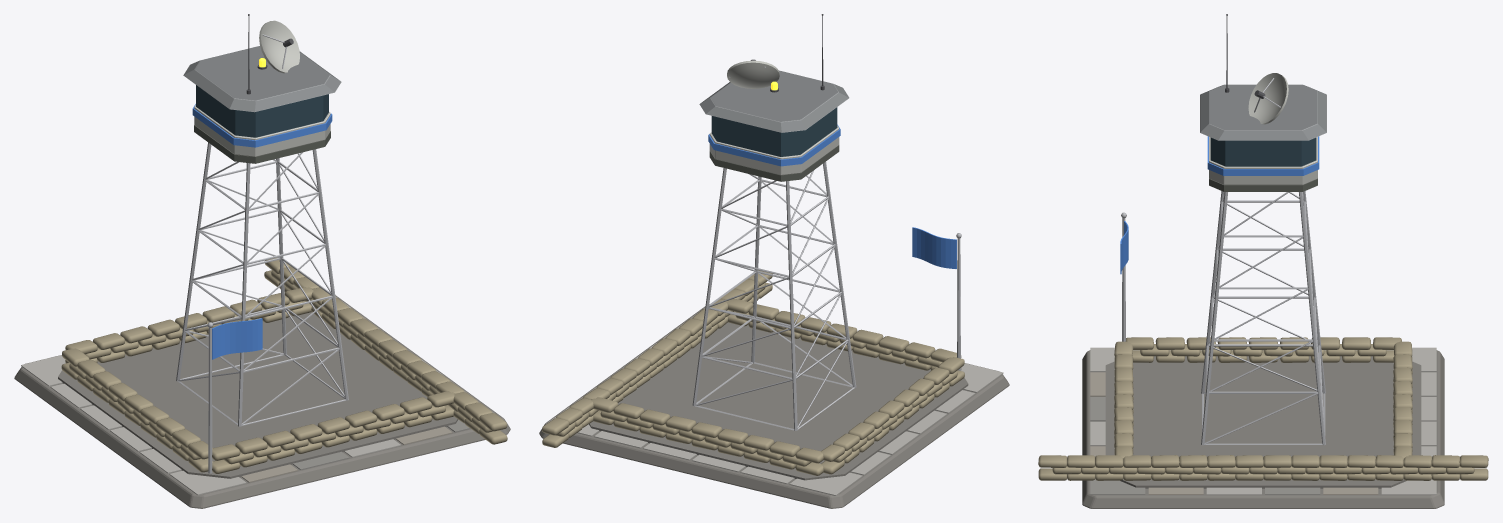
The model's file is observation_post_blue.glb.
The picture shows the model from 3 angles, left to right: view 1: azimuth 30°, elevation 25°; view 2: azimuth 150°, elevation 25°; view 3: azimuth 270°, elevation 25°; orthographic projection. The views are drawn at different scales.
Visible parts, largest first — view 1: Body; view 2: Body; view 3: Body.
Part boxes in pixels (x1,y1,x2,y2): Body: [14, 14, 510, 508]; Body: [539, 14, 1009, 508]; Body: [1038, 14, 1488, 508].
Bounding box in the file's own units: 5.98 × 7.34 × 7.42.
1 material, 1 textured.
